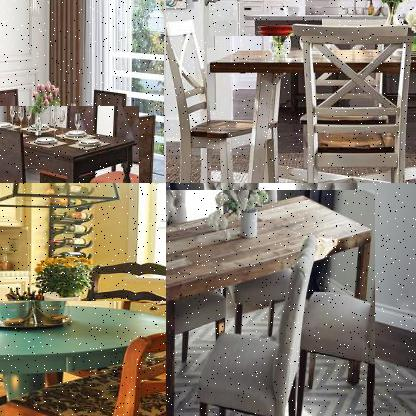table: (166, 190, 377, 415), (207, 36, 415, 182), (0, 301, 165, 415), (0, 106, 140, 182)
